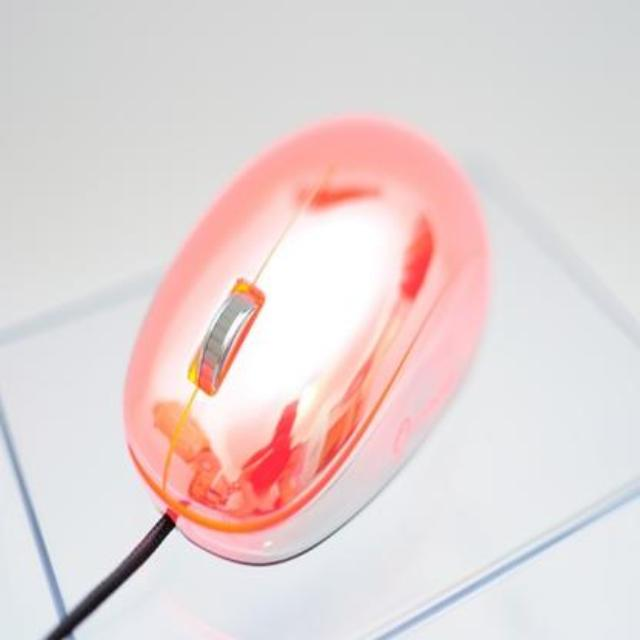Computer-Mouse: (107, 108, 561, 622)
